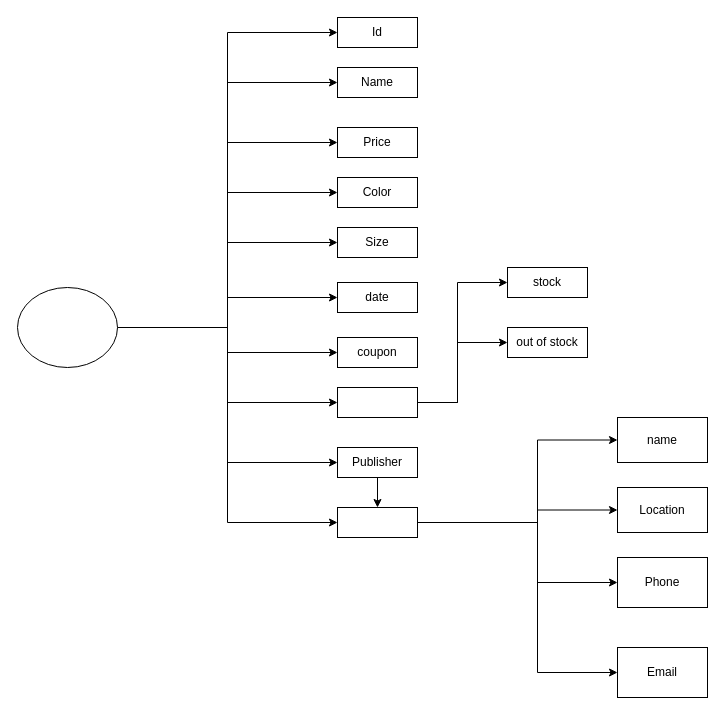
Some shapes in this 725 by 715 pixel diagram are drawn without their labels. The shapes that lost their labels are listed below. From the top down, each one's box as (x1, y1, x2, y2) in pixels, then its label:
(16, 286, 118, 368): Item
(336, 386, 418, 418): status
(336, 506, 418, 538): Stores
